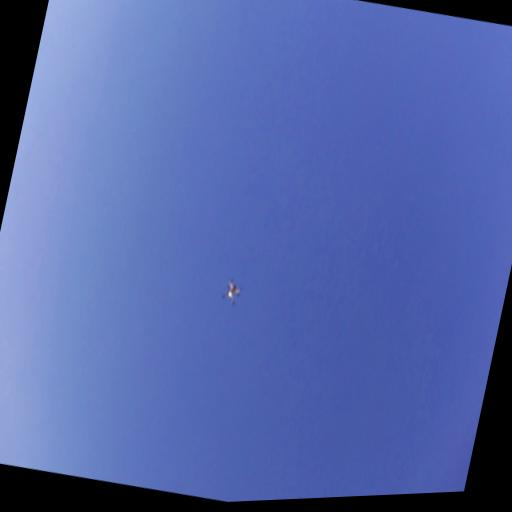drones: (219, 272, 245, 309)
